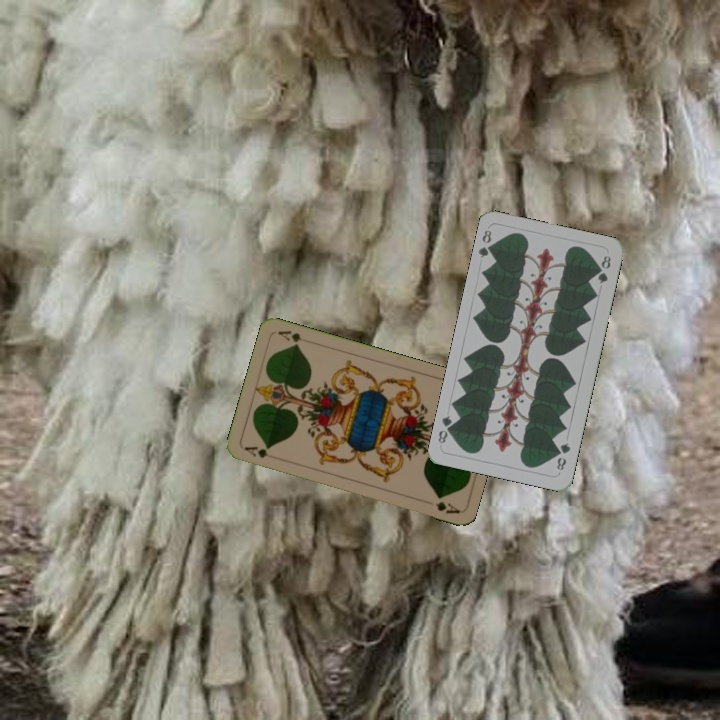G8: (475, 226, 497, 260), (553, 438, 573, 473)
GA: (240, 442, 280, 461)
